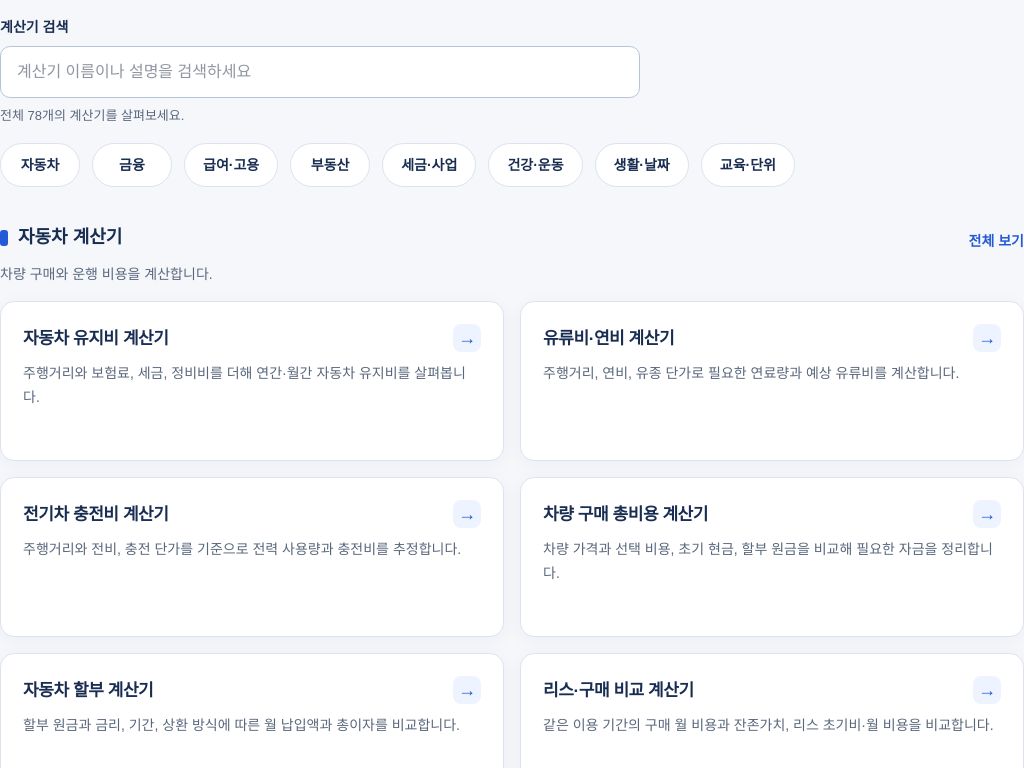
it: only shows category pills with a visible section while searching
Type "유류" into the search field labelled "계산기 검색".
click(320, 72); type("유류")  # box [0, 46, 640, 98]
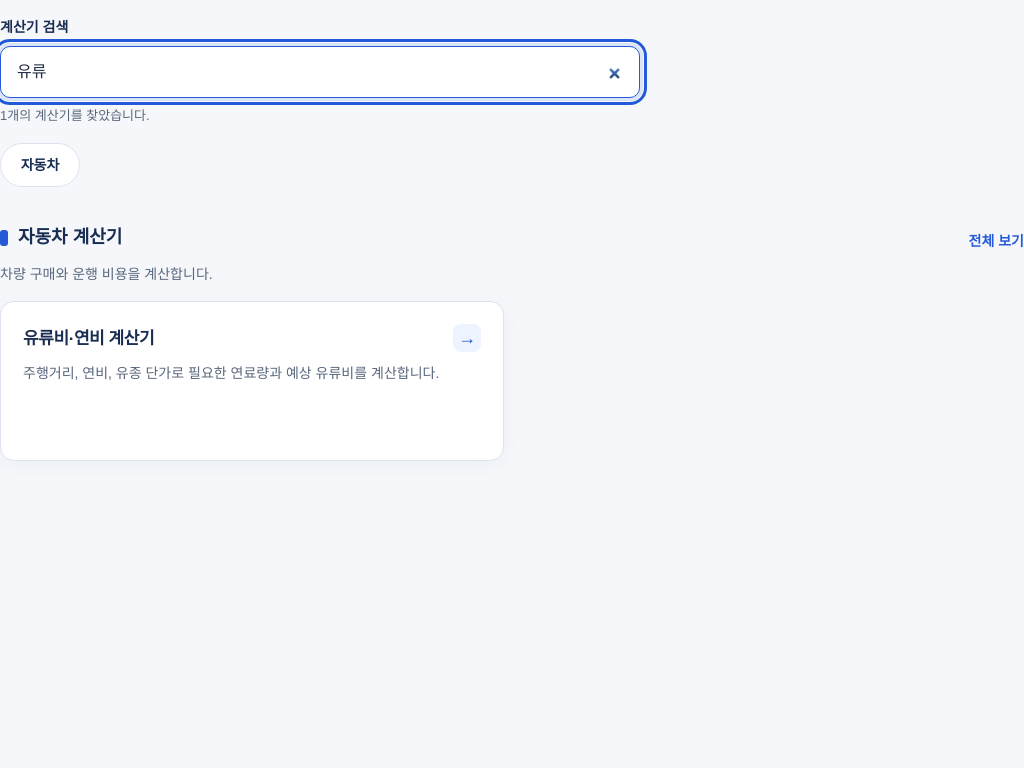
Result: the link "교육·단위" is gone
